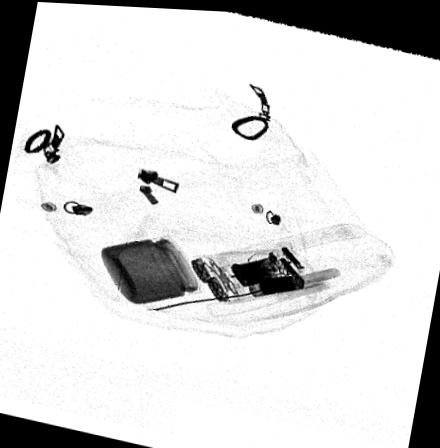Knife: (144, 262, 340, 308)
